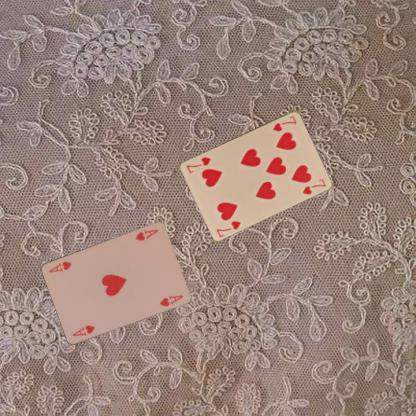7h: (214, 218, 242, 238), (270, 113, 298, 132)
Ah: (69, 322, 96, 338), (132, 227, 160, 242)
